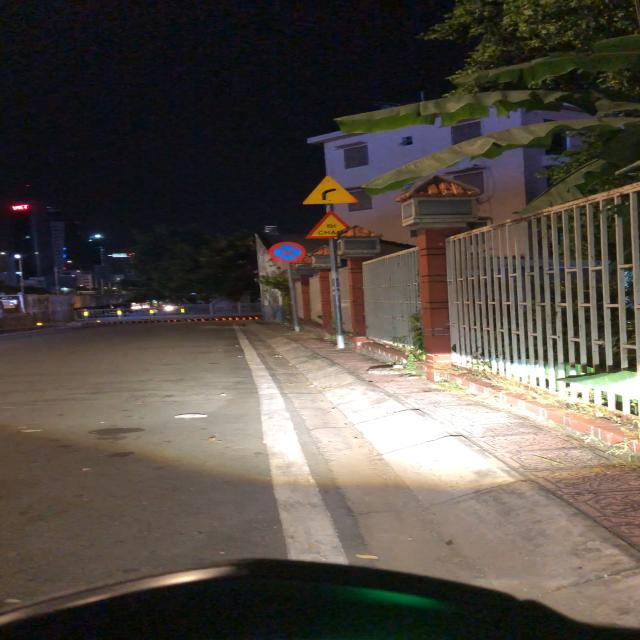Bien bao cam dung xe va do xe: (268, 242, 306, 264)
Bien bao cho ngoat nguy hiem: (301, 174, 361, 206)
Bien bao di cham: (304, 210, 356, 240)
